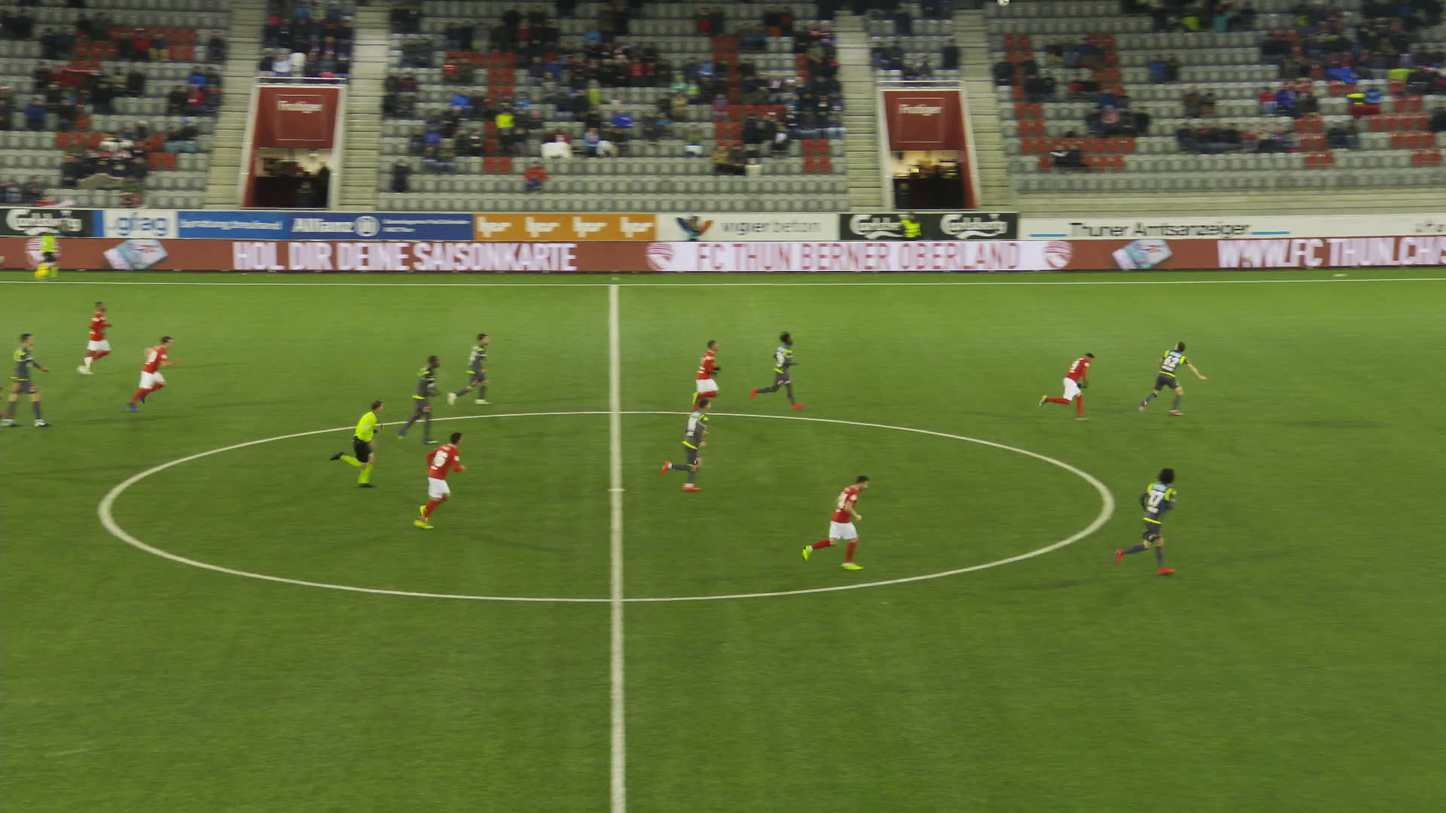ball: (996, 0, 1009, 7)
player: (1110, 464, 1185, 581), (802, 469, 876, 580), (404, 426, 474, 531), (1131, 335, 1214, 421), (653, 396, 719, 494), (0, 329, 56, 431), (394, 352, 449, 448), (746, 327, 807, 413), (1038, 348, 1104, 427), (123, 331, 185, 414), (443, 330, 499, 409), (679, 334, 731, 419), (71, 296, 119, 379), (0, 382, 23, 478)
referee: (322, 394, 396, 492), (35, 227, 66, 282)
